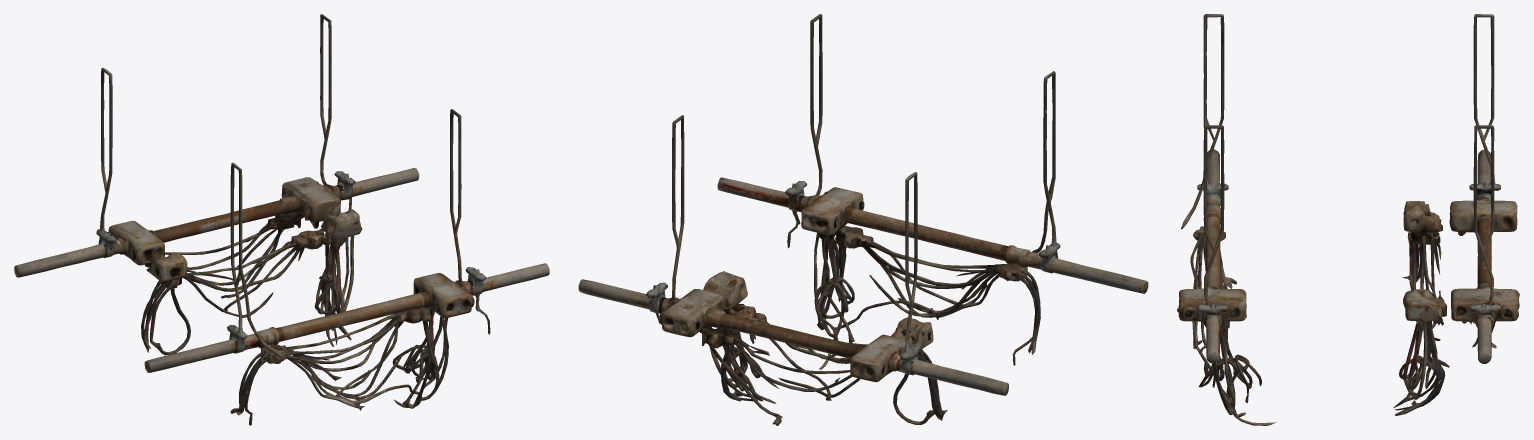
The model's file is m_diaoding.fbx.
3 views of the same model, side by side, from view 1: azimuth 30°, elevation 25°; view 2: azimuth 150°, elevation 25°; view 3: azimuth 270°, elevation 25° (orthographic). The views are drawn at different scales.
Visible parts, largest first — view 1: mesh_node; view 2: mesh_node; view 3: mesh_node.
Boxes of the visible parts, <box> form: mesh_node: <box>14,14,549,425</box>; mesh_node: <box>578,14,1148,425</box>; mesh_node: <box>1177,14,1519,425</box>.
Bounding box in the file's own units: 1.98 × 1.44 × 1.41.
